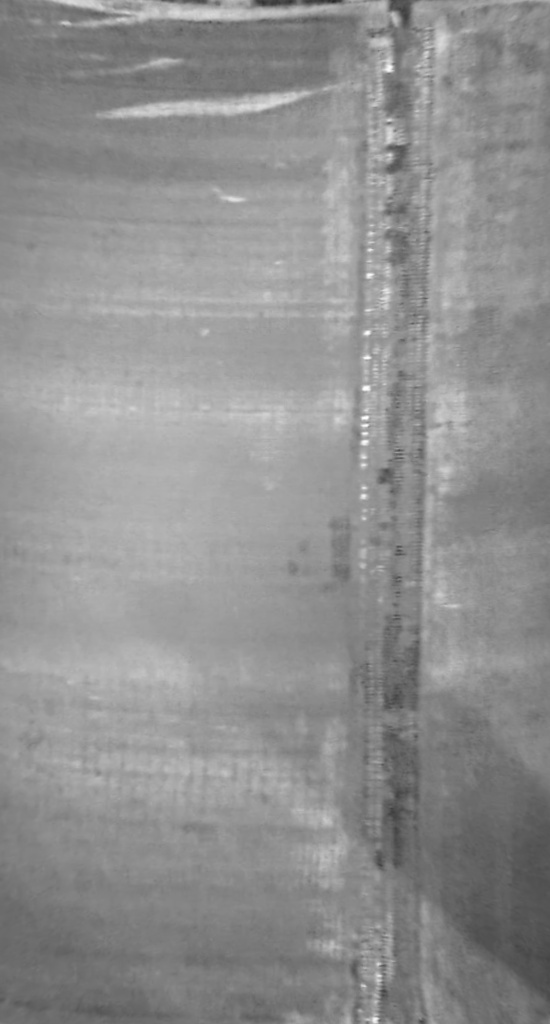splice: (341, 1, 444, 1023)
